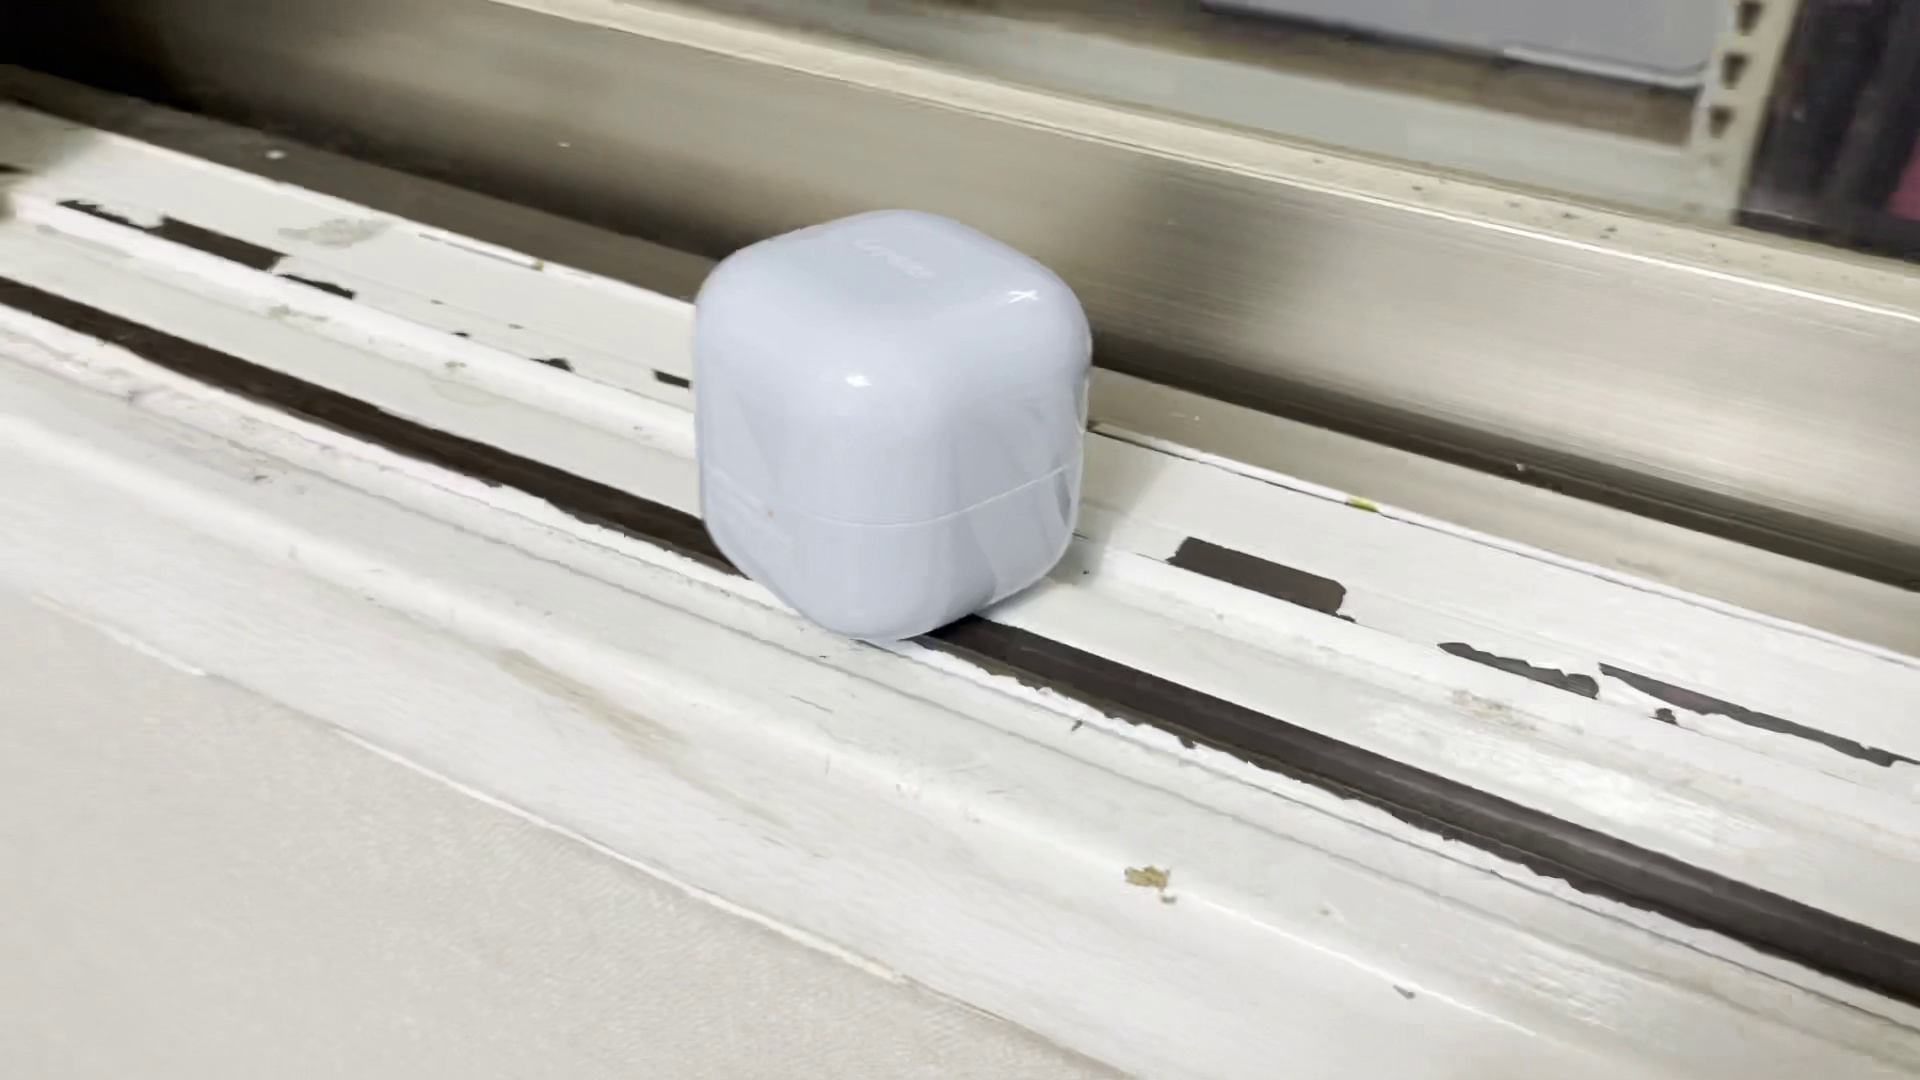cream: (694, 200, 1097, 654)
